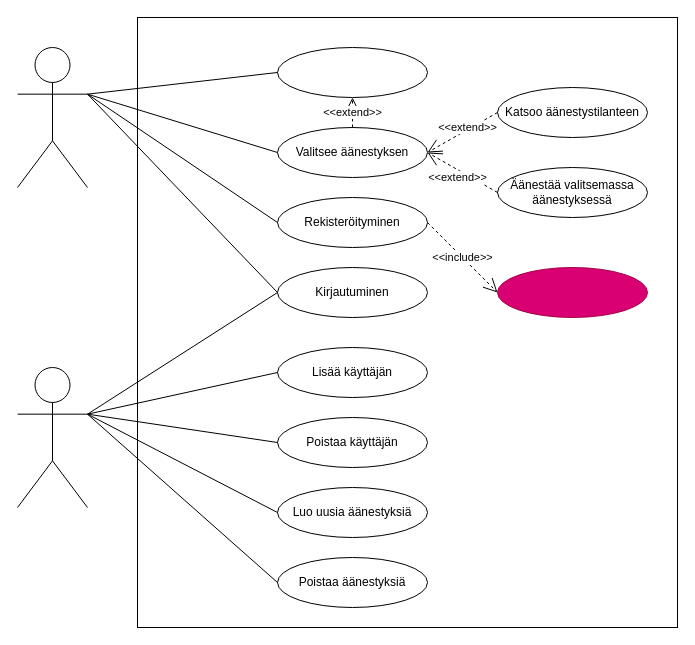
Image size: 695x645. Some labels were removed from this diagram. Here are the shapes that lost their labels. From the top down, the centre of each, then its label:
pixel 352 72: Selailee äänestyksiä sovelluksen etusivulla
pixel 52 117: User
pixel 572 292: Tietokanta
pixel 52 437: Admin
